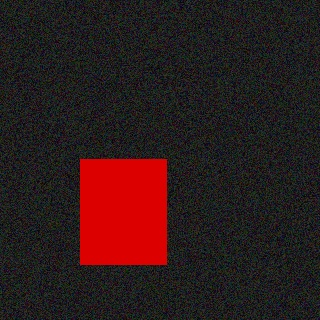red_barrel: (81, 159, 167, 264)
